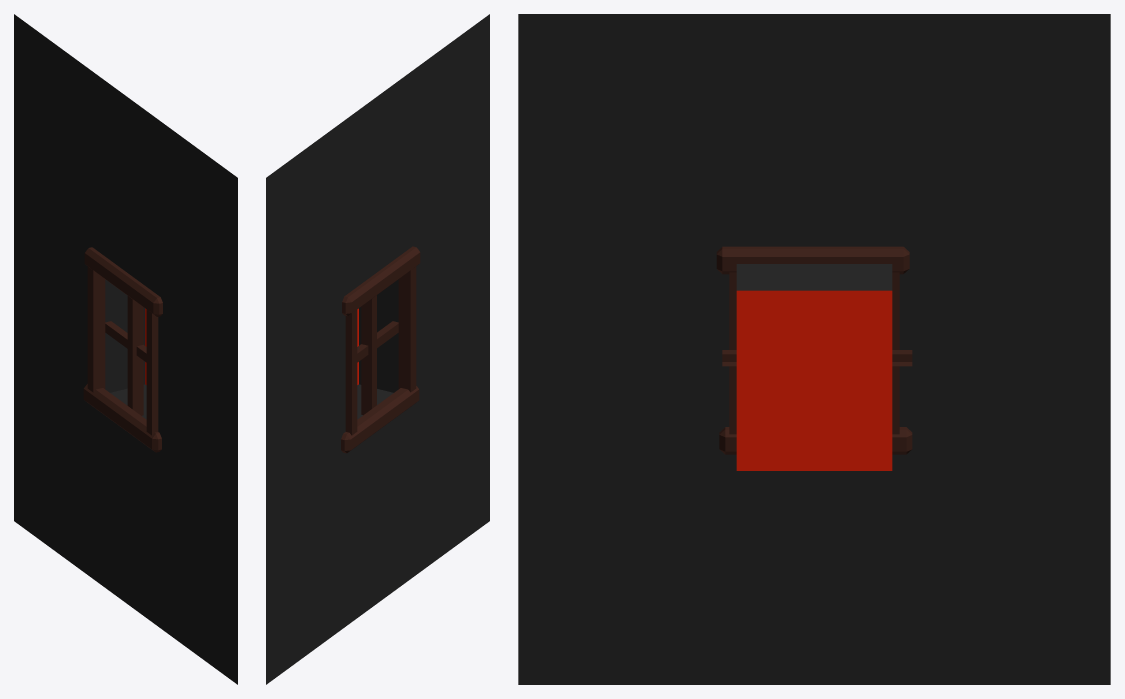
File: standard_window_2.FBX
3 renders of one model, left to right at view 1: azimuth 30°, elevation 25°; view 2: azimuth 150°, elevation 25°; view 3: azimuth 270°, elevation 25°, orthographic. The views are drawn at different scales.
Parts seen in each view (by area): view 1: standard_window_2; view 2: standard_window_2; view 3: standard_window_2.
Part boxes in pixels (left/top/right/bottom): standard_window_2: left=14, top=14, right=237, bottom=684; standard_window_2: left=266, top=14, right=489, bottom=684; standard_window_2: left=518, top=14, right=1110, bottom=684.
Size of the model in its own units: 23.11 by 200 by 160.
